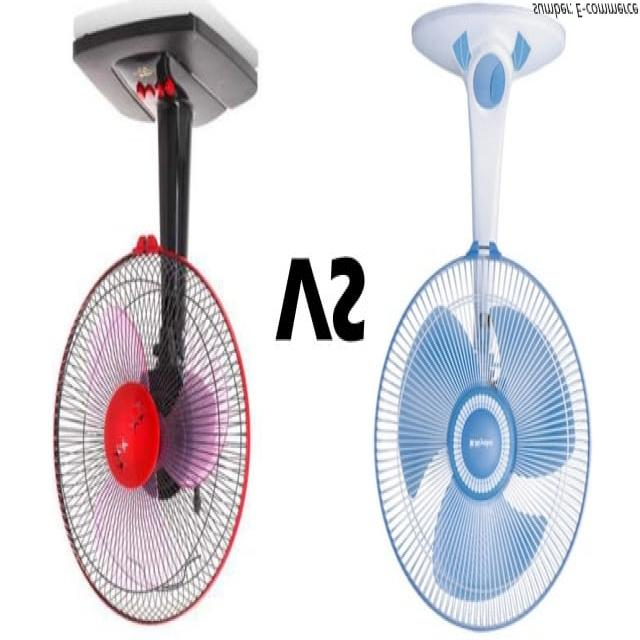fan: (49, 18, 594, 628)
